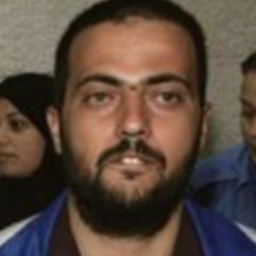Person: (31, 3, 252, 256)
